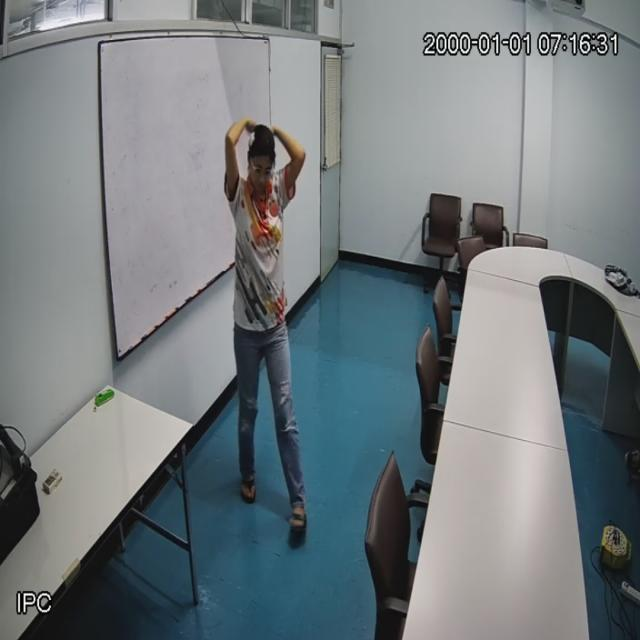normal: (222, 118, 321, 542)
